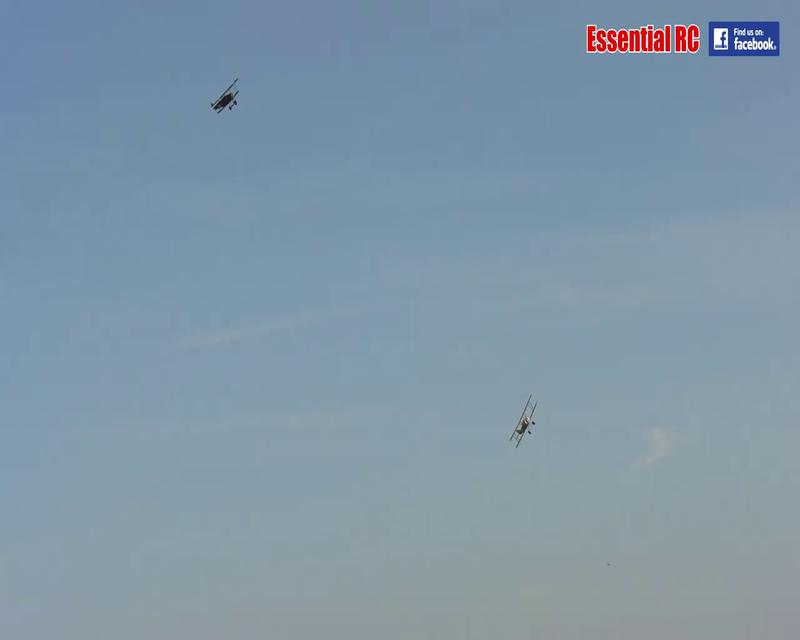UAV: (508, 393, 539, 448), (209, 77, 241, 115)
